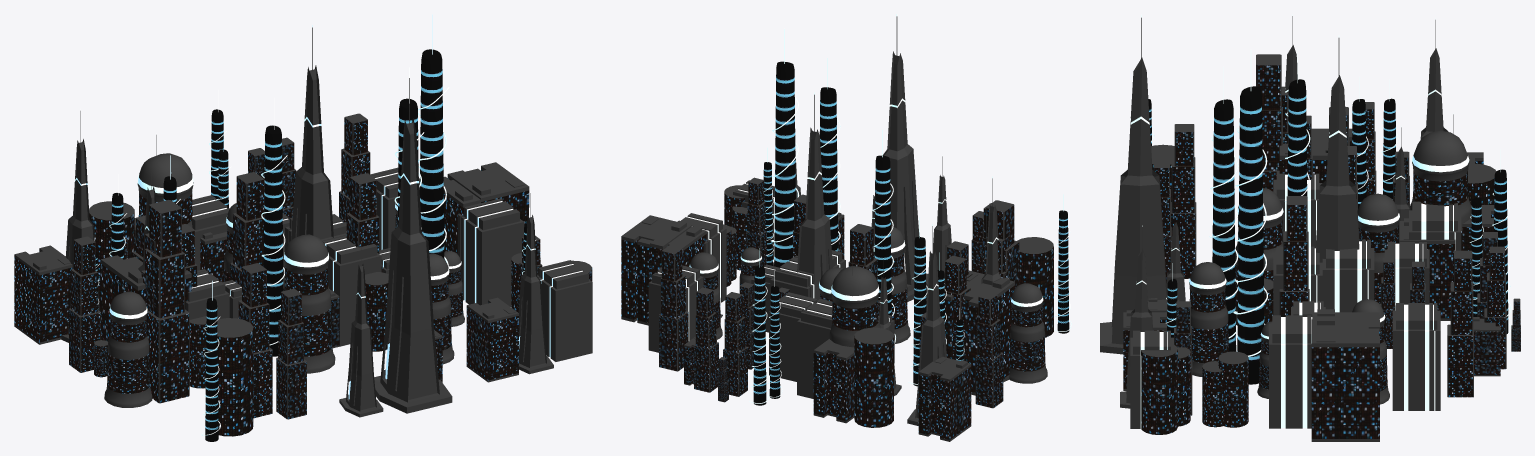
File: City.glb
The picture shows the model from 3 angles, left to right: view 1: azimuth 30°, elevation 25°; view 2: azimuth 150°, elevation 25°; view 3: azimuth 270°, elevation 25°; orthographic projection. The views are drawn at different scales.
Parts seen in each view (by area): view 1: Cube.044, Cube.067, Cube.013, Cube.115, Cube.086, Cube.002, Cube.025, Cube.026, Cube.043, Cylinder.010, Cube.105, Cube.088 (+30 smaller); view 2: Cube.044, Cube.086, Cube.115, Cylinder.015, Cube.108, Cube.026, Cube.043, Cube.030, Cube.071, Cube.114, Cube.109, Cube.078 (+37 smaller); view 3: Cube.044, Cube.109, Cube.086, Cube.007, Cube.013, Cube.043, Cube.087, Cube.030, Cube.024, Cube.071, Cube.064, Cube.009 (+43 smaller).
Part boxes in pixels (<box>): Cube.044: <box>374,75,452,413</box>; Cube.067: <box>145,200,189,403</box>; Cube.013: <box>457,198,524,306</box>; Cube.115: <box>14,245,72,344</box>; Cube.086: <box>418,14,449,266</box>; Cube.002: <box>537,260,592,361</box>; Cube.025: <box>283,234,335,373</box>; Cube.026: <box>104,291,152,407</box>; Cube.043: <box>291,25,333,239</box>; Cylinder.010: <box>217,318,253,436</box>; Cube.105: <box>466,297,518,382</box>; Cube.088: <box>261,98,287,356</box>; Cube.044: <box>882,14,928,301</box>; Cube.086: <box>770,28,799,267</box>; Cube.115: <box>918,357,971,441</box>; Cylinder.015: <box>854,327,893,427</box>; Cube.108: <box>944,270,1014,395</box>; Cube.026: <box>1009,283,1047,383</box>; Cube.043: <box>797,92,832,300</box>; Cube.030: <box>829,266,880,347</box>; Cube.071: <box>659,245,688,371</box>; Cube.114: <box>813,339,854,423</box>; Cube.109: <box>621,215,691,322</box>; Cube.078: <box>975,292,1003,408</box>; Cube.044: <box>1100,14,1166,354</box>; Cube.109: <box>1311,316,1379,441</box>; Cube.086: <box>1233,50,1267,384</box>; Cube.007: <box>1392,303,1440,410</box>; Cube.013: <box>1269,315,1312,428</box>; Cube.043: <box>1315,35,1359,262</box>; Cube.087: <box>1209,67,1238,351</box>; Cube.030: <box>1409,130,1471,250</box>; Cube.024: <box>1189,262,1228,376</box>; Cube.071: <box>1447,250,1473,397</box>; Cube.064: <box>1171,124,1196,278</box>; Cube.009: <box>1322,239,1374,312</box>.
Bounding box in the file's own units: 40.09 × 28.01 × 32.43.
4 materials, 2 textured.
